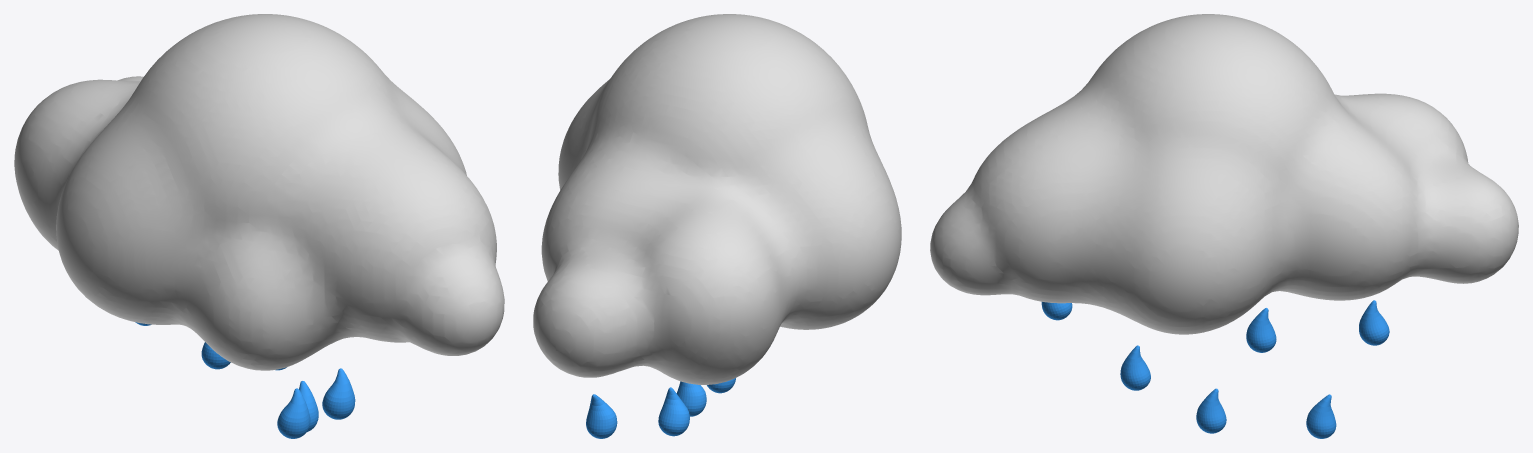
File: mrakDest.fbx
3 renders of one model, left to right at view 1: azimuth 30°, elevation 25°; view 2: azimuth 150°, elevation 25°; view 3: azimuth 270°, elevation 25°, orthographic. The views are drawn at different scales.
Parts seen in each view (by area): view 1: Mball.010, Sphere.016; view 2: Mball.010, Sphere.016; view 3: Mball.010, Sphere.016.
Boxes of the visible parts, x1,y1,x2,y2 form: Mball.010: (14, 14, 504, 370); Sphere.016: (135, 322, 355, 438); Mball.010: (533, 14, 901, 384); Sphere.016: (586, 378, 735, 438); Mball.010: (930, 14, 1518, 334); Sphere.016: (1041, 300, 1389, 438).
Size of the model in its own units: 279 by 306 by 421.
